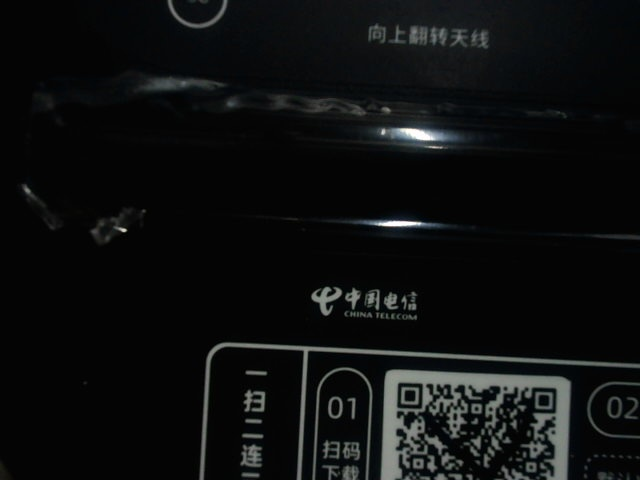AB_ChinaTelecom: (295, 272, 428, 324)
